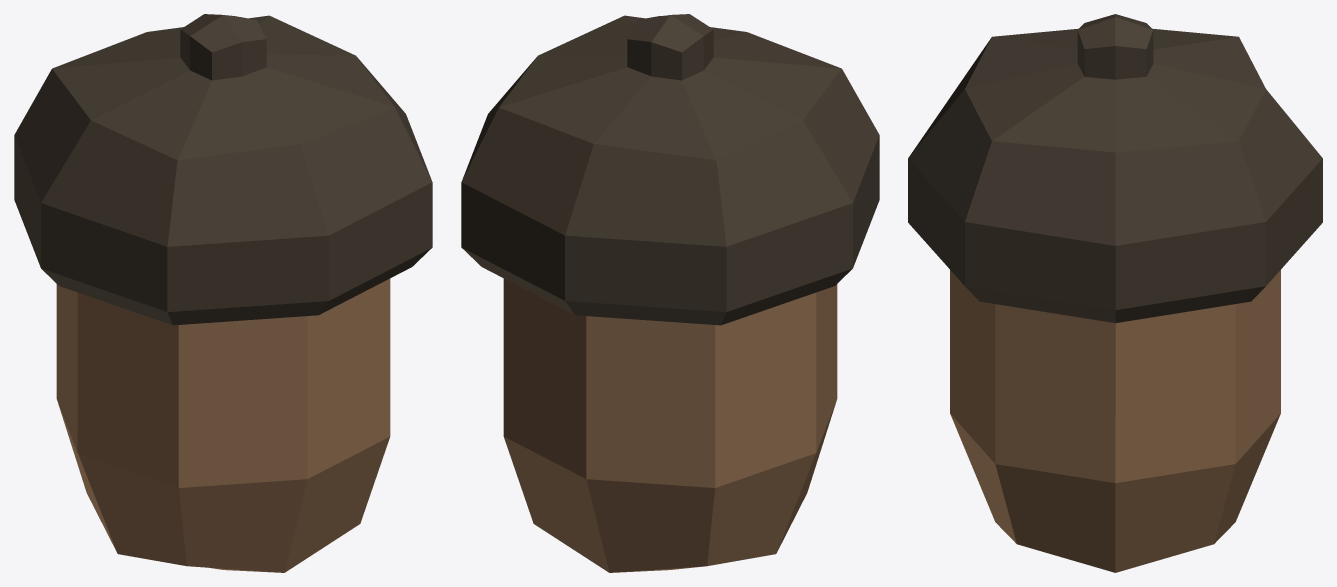
The model's file is Acorn.fbx.
The picture shows the model from 3 angles, left to right: view 1: azimuth 30°, elevation 25°; view 2: azimuth 150°, elevation 25°; view 3: azimuth 270°, elevation 25°; orthographic projection.
Parts seen in each view (by area): view 1: Acorn; view 2: Acorn; view 3: Acorn.
Part boxes in pixels (left/top/right/bottom): Acorn: left=14, top=14, right=432, bottom=572; Acorn: left=461, top=14, right=879, bottom=572; Acorn: left=908, top=14, right=1322, bottom=572.
Size of the model in its own units: 6.86 by 9.97 by 6.86.
